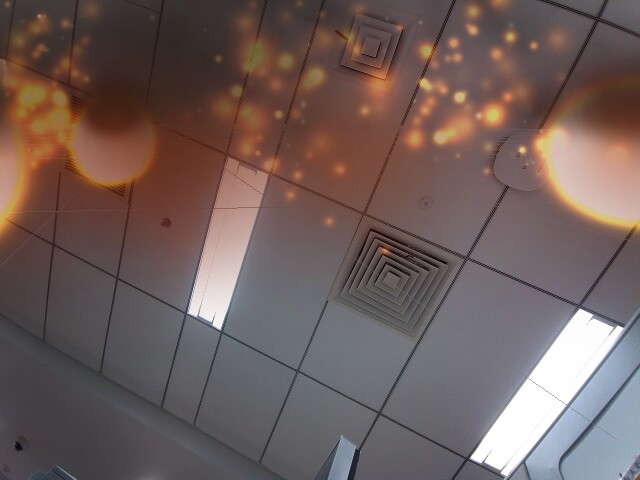fire: (537, 69, 638, 246), (70, 100, 157, 187), (0, 99, 34, 235)
